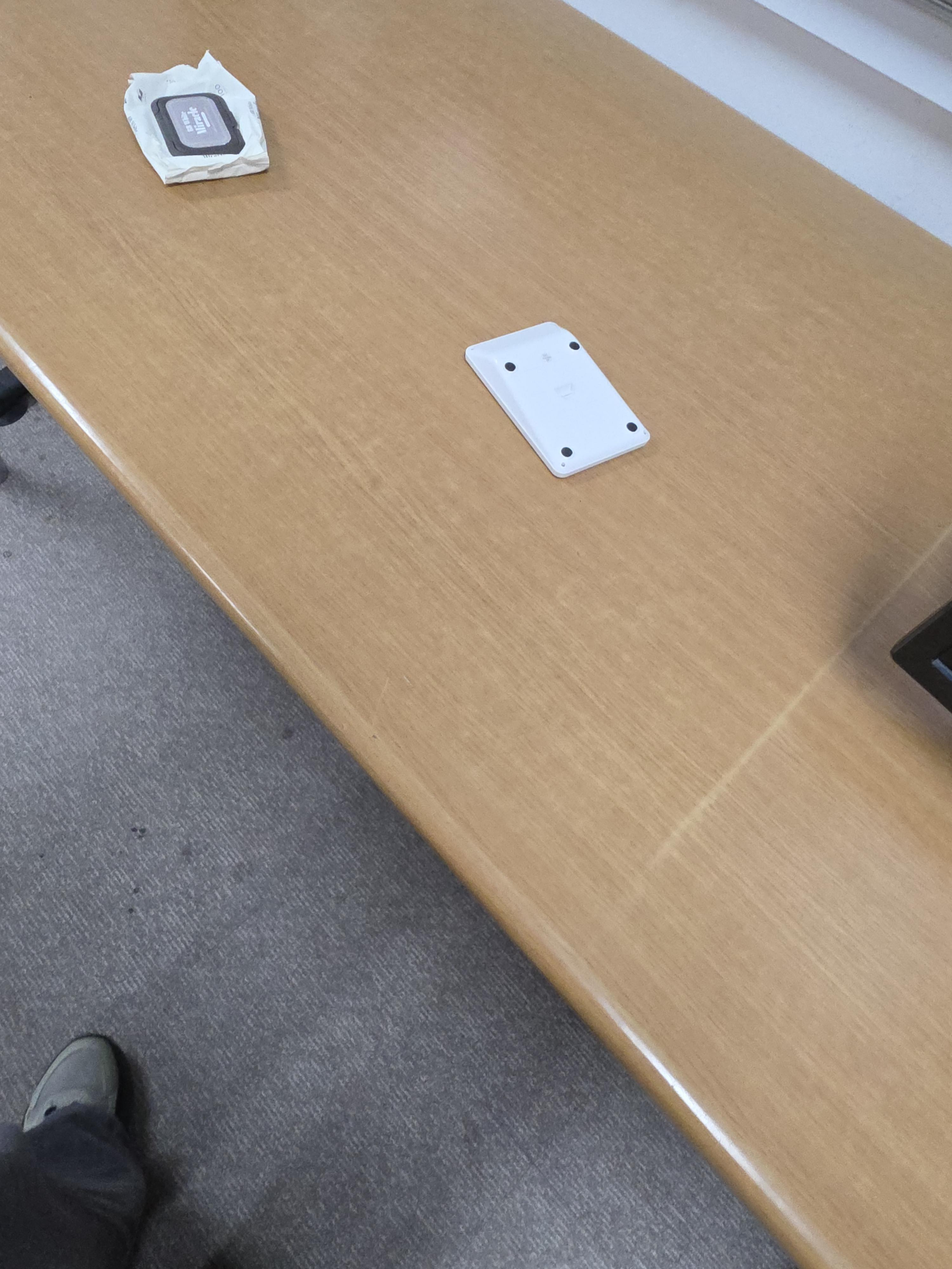calculator: (465, 322, 651, 478)
tissue: (123, 49, 270, 185)
